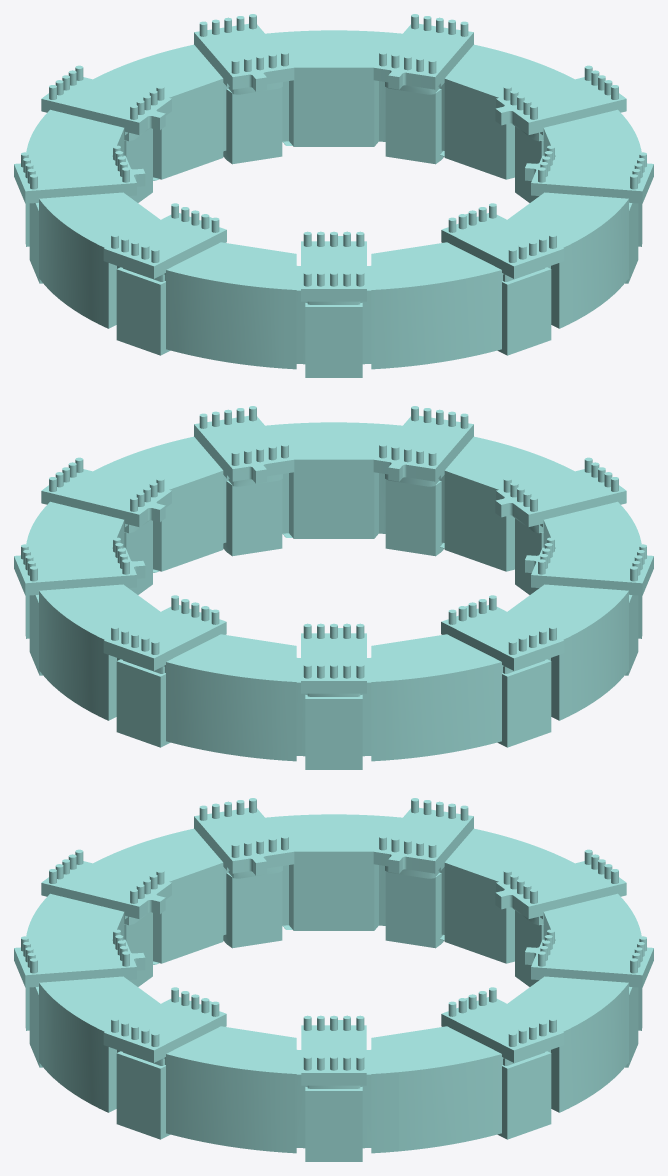
3 views of the same model, one above another, from view 1: azimuth 30°, elevation 25°; view 2: azimuth 150°, elevation 25°; view 3: azimuth 270°, elevation 25° (orthographic).
Visible parts, largest first — view 1: ITER_MESH__pf1; view 2: ITER_MESH__pf1; view 3: ITER_MESH__pf1.
Part boxes in pixels (x1,y1,x2,y2): ITER_MESH__pf1: (14,14,653,377); ITER_MESH__pf1: (14,406,653,769); ITER_MESH__pf1: (14,798,653,1161).
Bounding box in the file's own units: 9.6 × 1.8 × 9.74.
